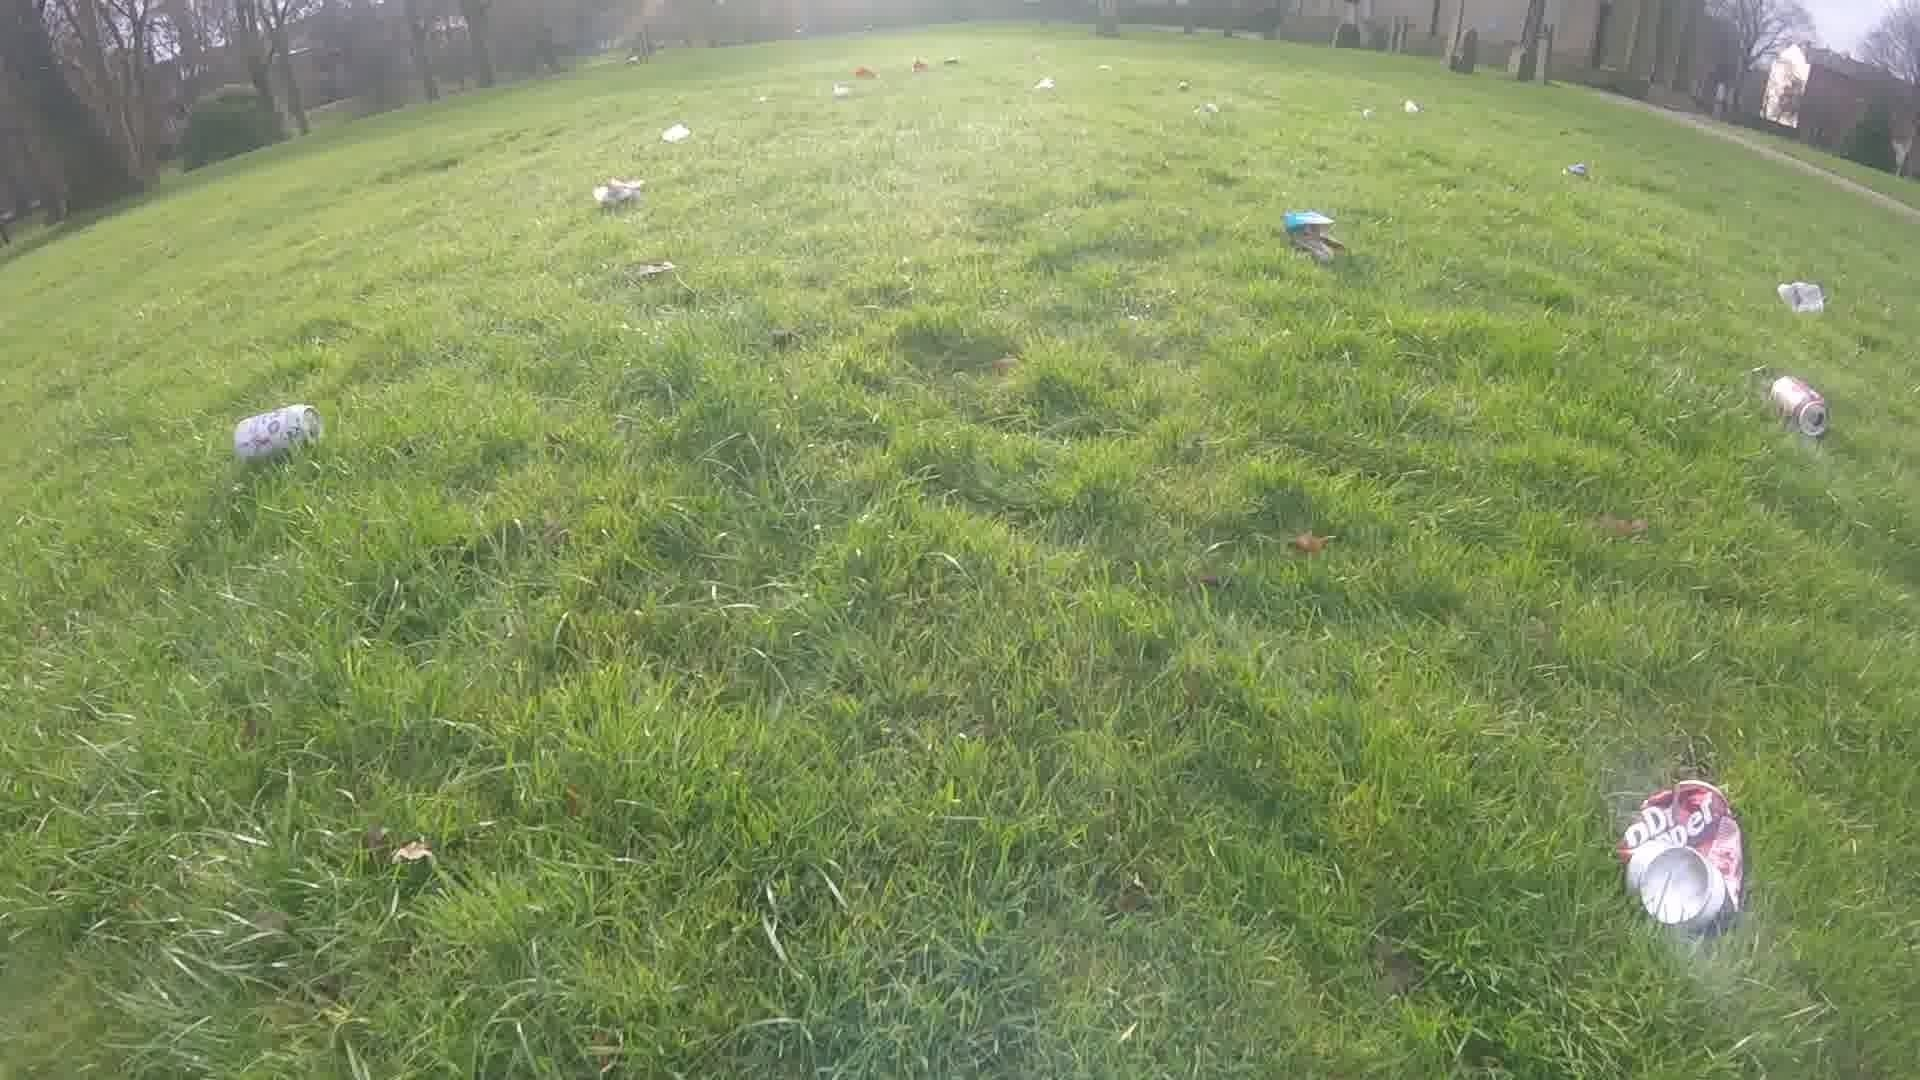litter: (1613, 779, 1749, 926), (227, 401, 316, 459), (1766, 371, 1826, 436), (1276, 207, 1341, 264), (1776, 277, 1822, 320), (592, 175, 640, 214), (659, 125, 695, 142), (1560, 160, 1594, 177), (1193, 102, 1226, 117), (849, 65, 876, 83), (1402, 96, 1422, 119), (1027, 83, 1062, 95), (829, 87, 858, 99), (1171, 76, 1197, 88), (938, 55, 963, 67), (903, 61, 934, 69)
